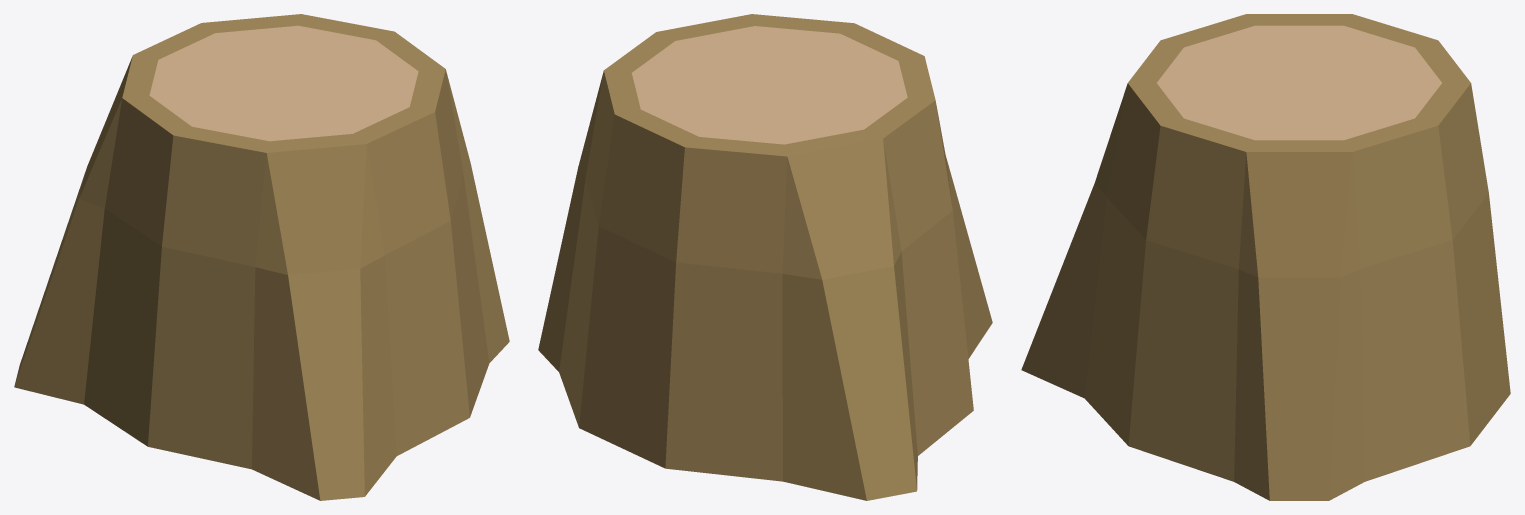
Rendered from Oak_Stump_03.fbx.
3 views of the same model, side by side, from view 1: azimuth 30°, elevation 25°; view 2: azimuth 150°, elevation 25°; view 3: azimuth 270°, elevation 25° (orthographic). The views are drawn at different scales.
Visible parts, largest first — view 1: Oak_Stump_03; view 2: Oak_Stump_03; view 3: Oak_Stump_03.
Boxes of the visible parts, left/top/right/bottom form: Oak_Stump_03: left=14, top=14, right=509, bottom=500; Oak_Stump_03: left=538, top=14, right=992, bottom=500; Oak_Stump_03: left=1021, top=14, right=1510, bottom=500.
Size of the model in its own units: 98.43 by 68.01 by 96.07.
